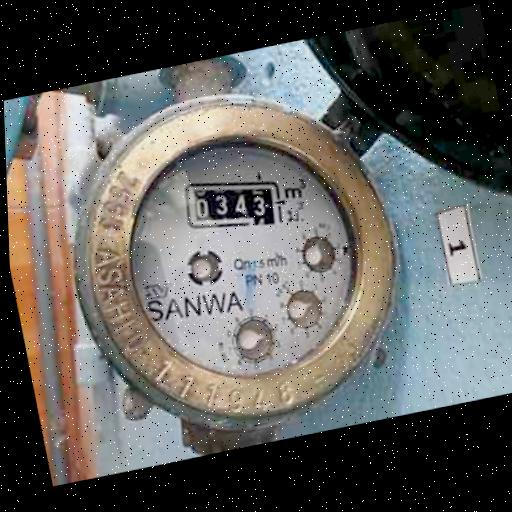0: (189, 187, 216, 224)
3: (246, 185, 276, 229), (206, 186, 232, 223)
4: (224, 185, 254, 221)
border_water_meter_number: (176, 164, 290, 243)
